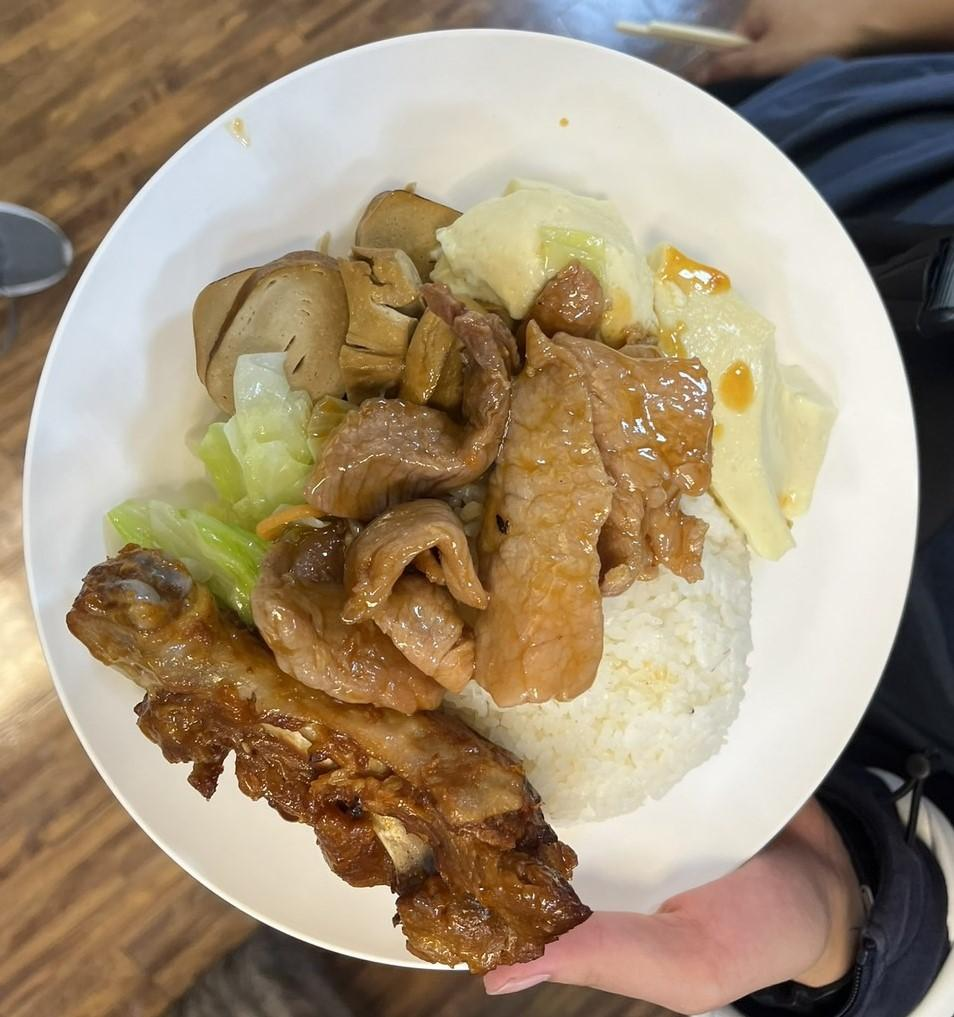big fried chicken leg: (3, 31, 935, 972)
big herbal chicken leg: (441, 483, 760, 820)
braised fish fillet: (443, 171, 833, 550), (187, 182, 459, 406), (115, 353, 318, 590)
braised pork: (62, 549, 587, 968), (247, 261, 718, 722)
